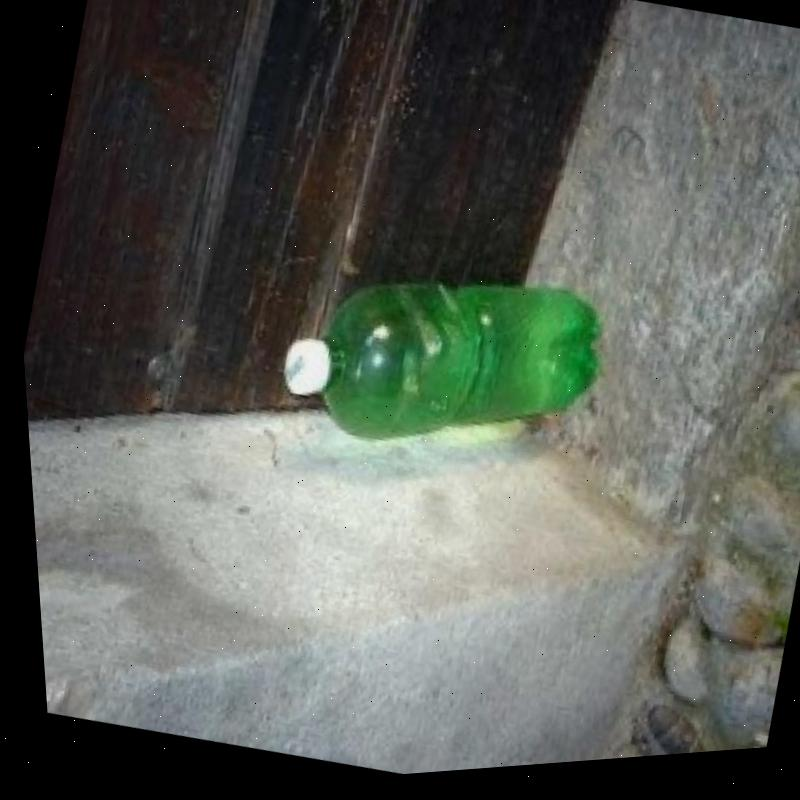botella: (255, 231, 616, 502)
